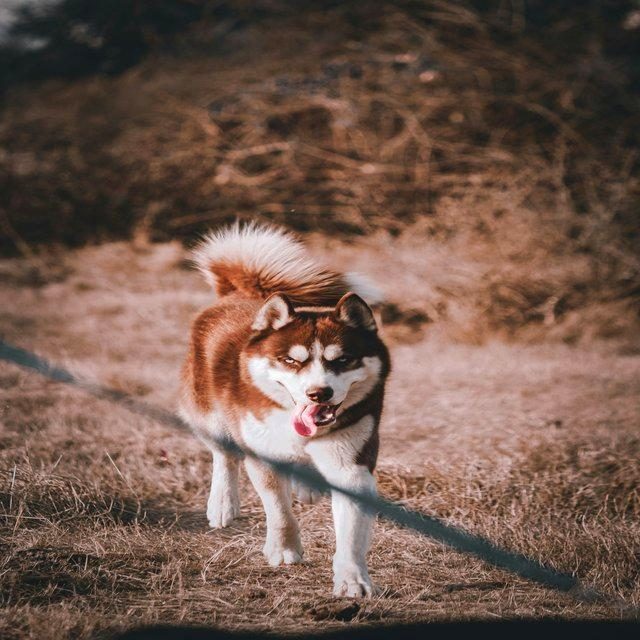husky: (174, 217, 392, 599)
